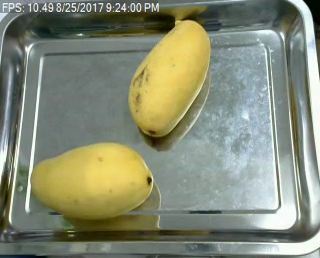Mango: (29, 140, 158, 218), (127, 19, 208, 137)
